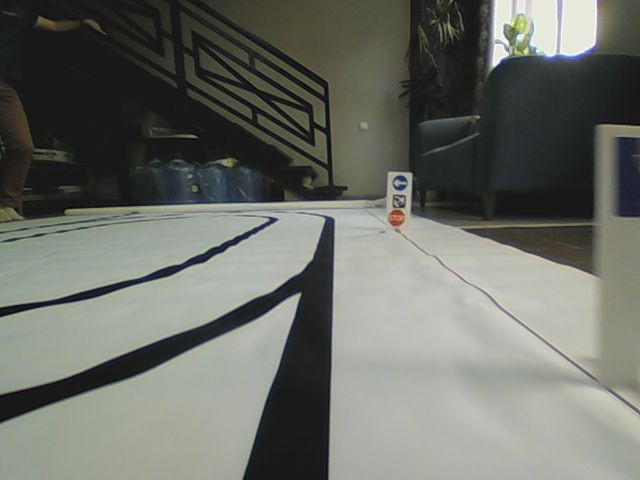Stop: (387, 208, 406, 227)
